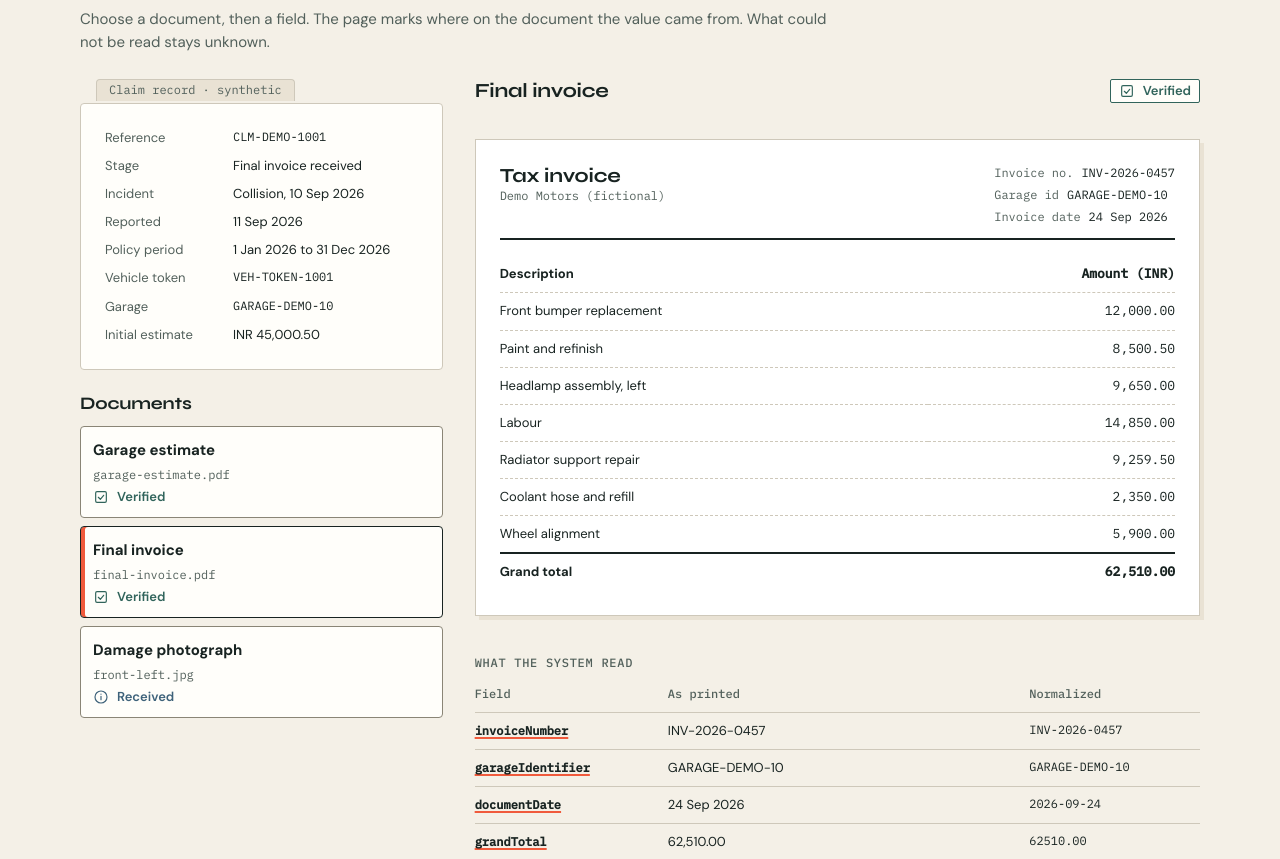
Documents step › switches documents and is honest that a photograph is stored but not read
(page scrolled)
Click the button "Garage estimate garage-estimate.pdf Verified".
click(154, 450)  # box [80,426,443,518]
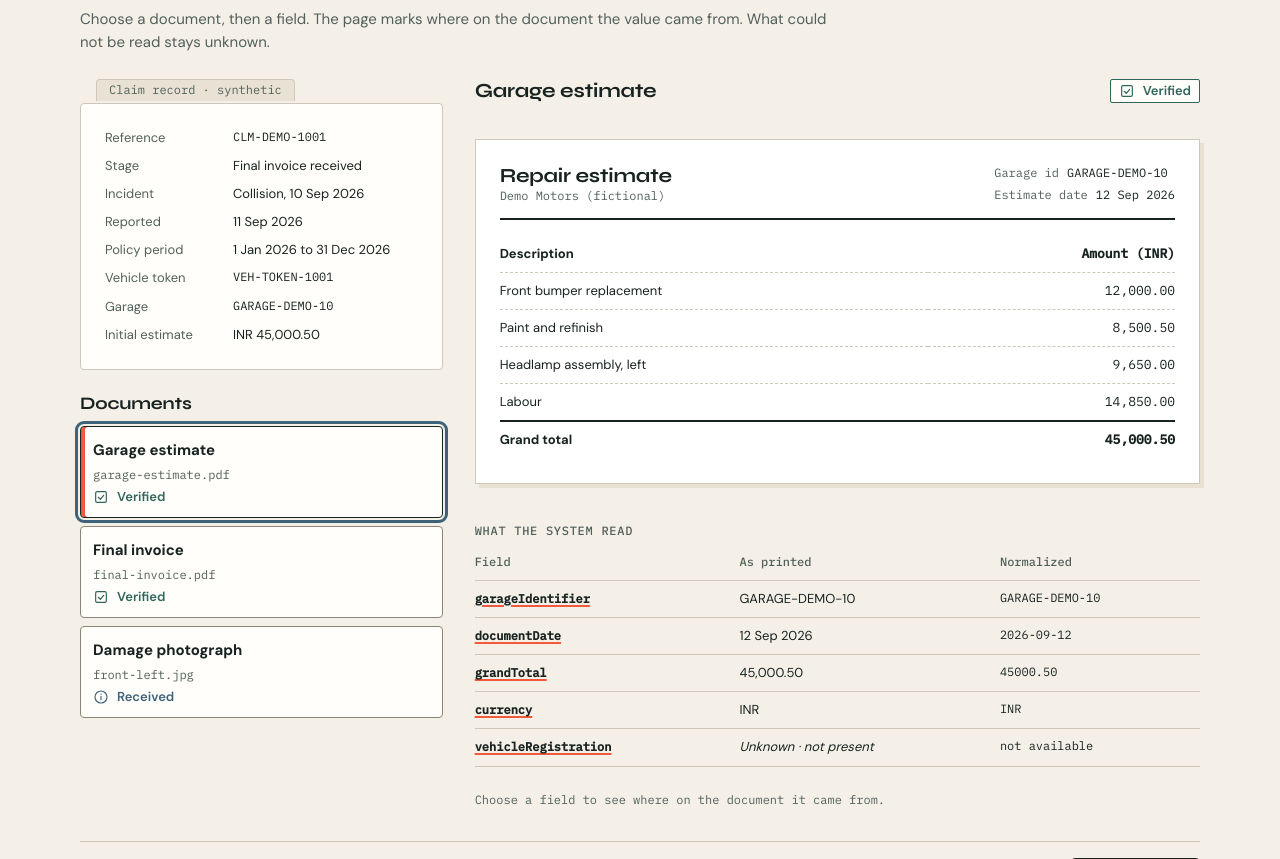
Check: the heading "Garage estimate" is shown, box [475,79,656,102]
Check: the element named "Garage estimate as printed" is shown, box [475,139,1200,484]
Click the button "Damage photograph front-left.jpg Received".
click(168, 650)  # box [80,626,443,718]
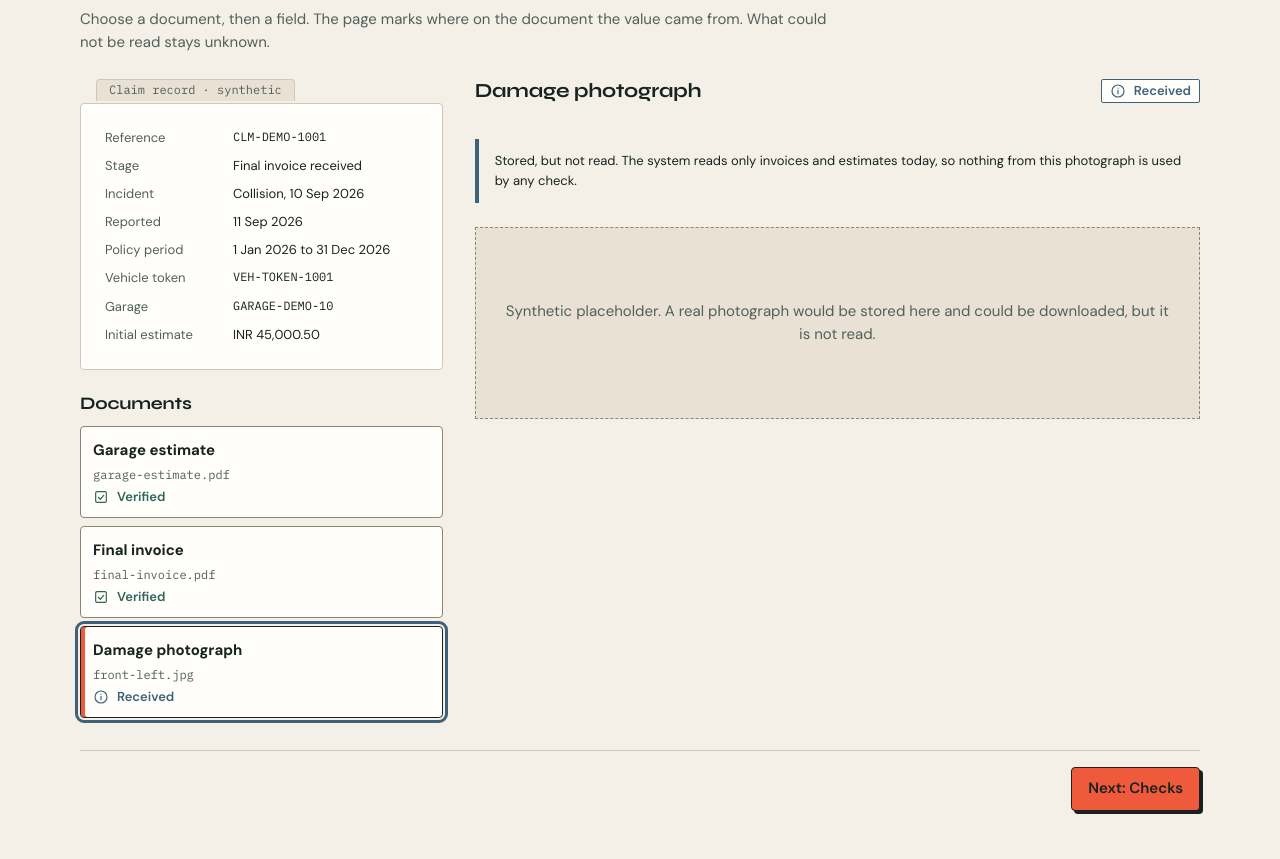
Check: the table "Fields read" is not shown
Check: the text "Stored, but not read" is shown, box [495,152,1181,189]
